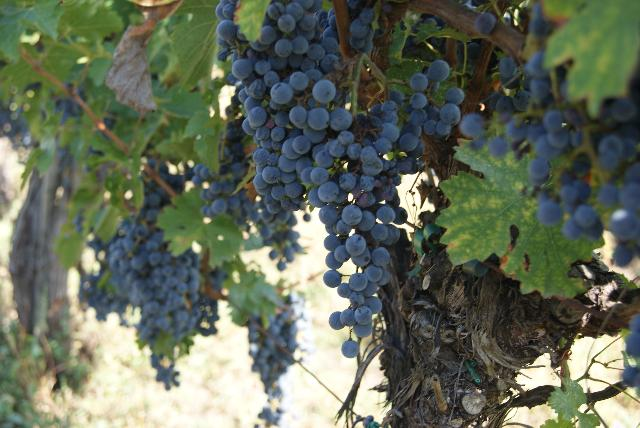grapes: (299, 88, 464, 339), (216, 0, 354, 222), (248, 292, 314, 425)
